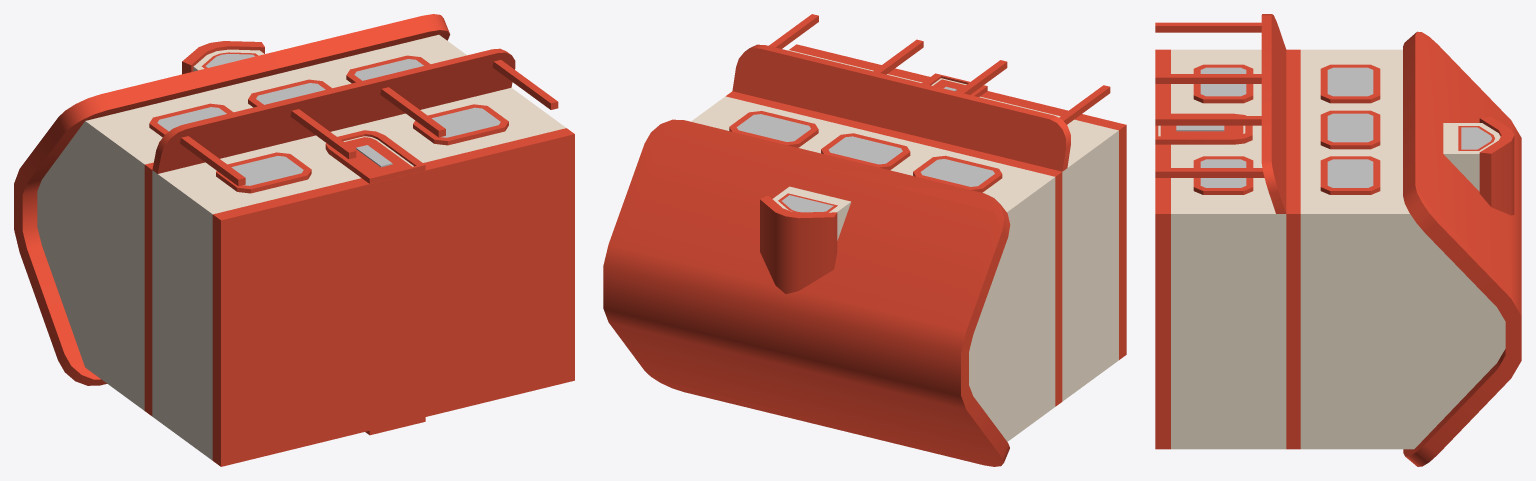
File: House03.fbx
The picture shows the model from 3 angles, left to right: view 1: azimuth 30°, elevation 25°; view 2: azimuth 150°, elevation 25°; view 3: azimuth 270°, elevation 25°; orthographic projection. The views are drawn at different scales.
Visible parts, largest first — view 1: dh012; view 2: dh012; view 3: dh012.
Part boxes in pixels (box(x1,y1,x2,y2)): dh012: box(14, 14, 574, 466); dh012: box(603, 14, 1126, 466); dh012: box(1155, 14, 1521, 466).
Bounding box in the file's own units: 975 × 764 × 846.
